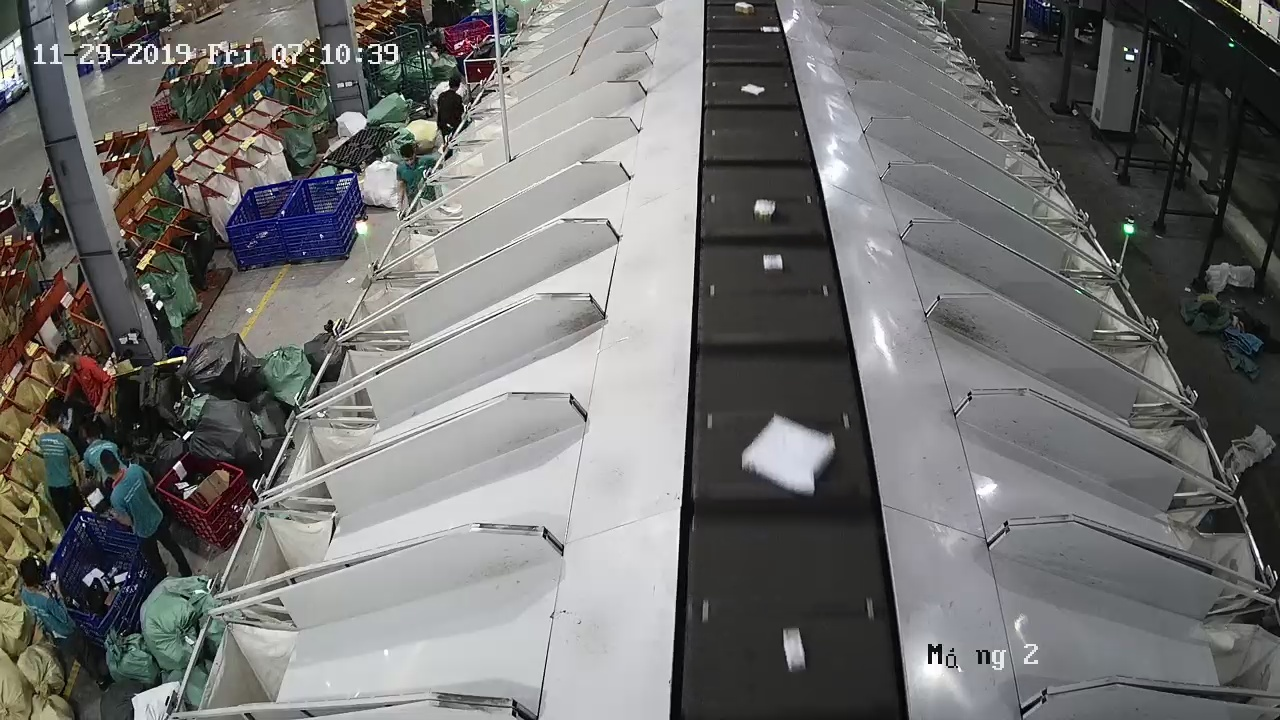parcel: (741, 413, 836, 497), (782, 627, 806, 673), (753, 199, 777, 224), (762, 253, 783, 274)
